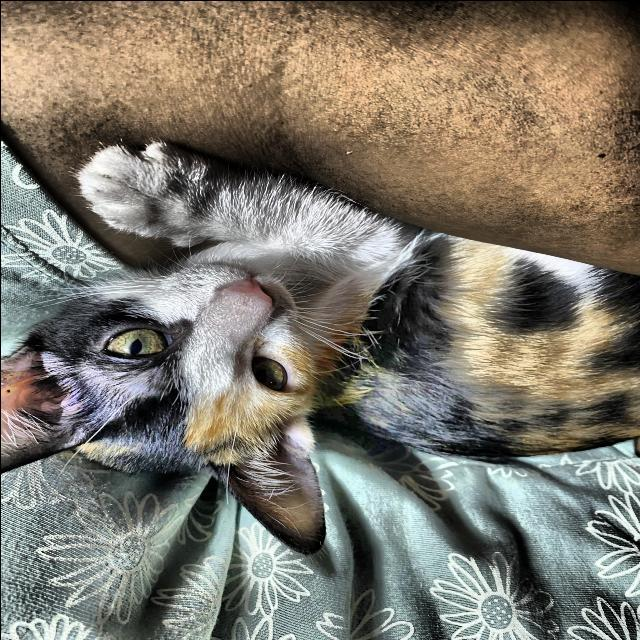Healthy skin: (316, 238, 530, 440)
